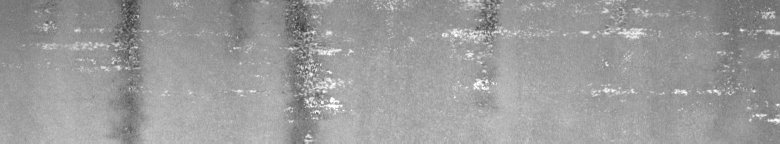hc: (43, 4, 144, 92)
